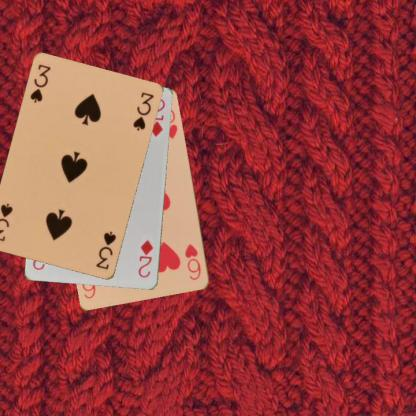2d: (136, 238, 155, 279)
3s: (93, 229, 118, 271), (27, 62, 52, 104)
6h: (182, 241, 203, 282)
